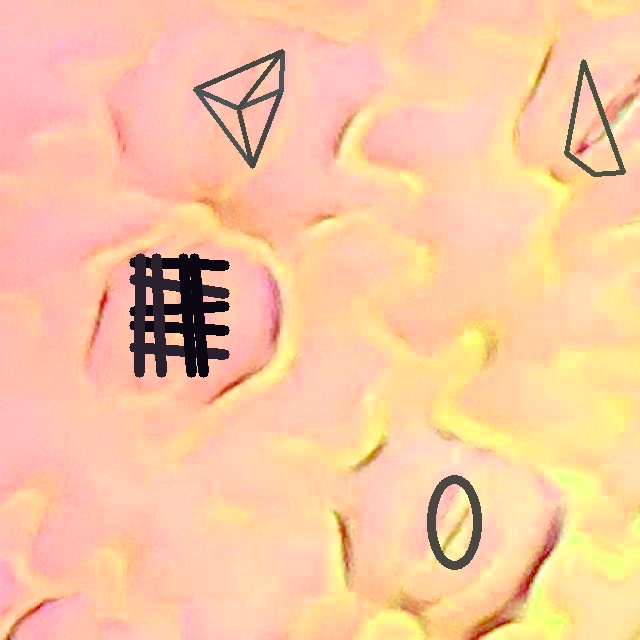open: (129, 253, 229, 376), (193, 49, 283, 168), (564, 59, 625, 176), (425, 474, 483, 570)
